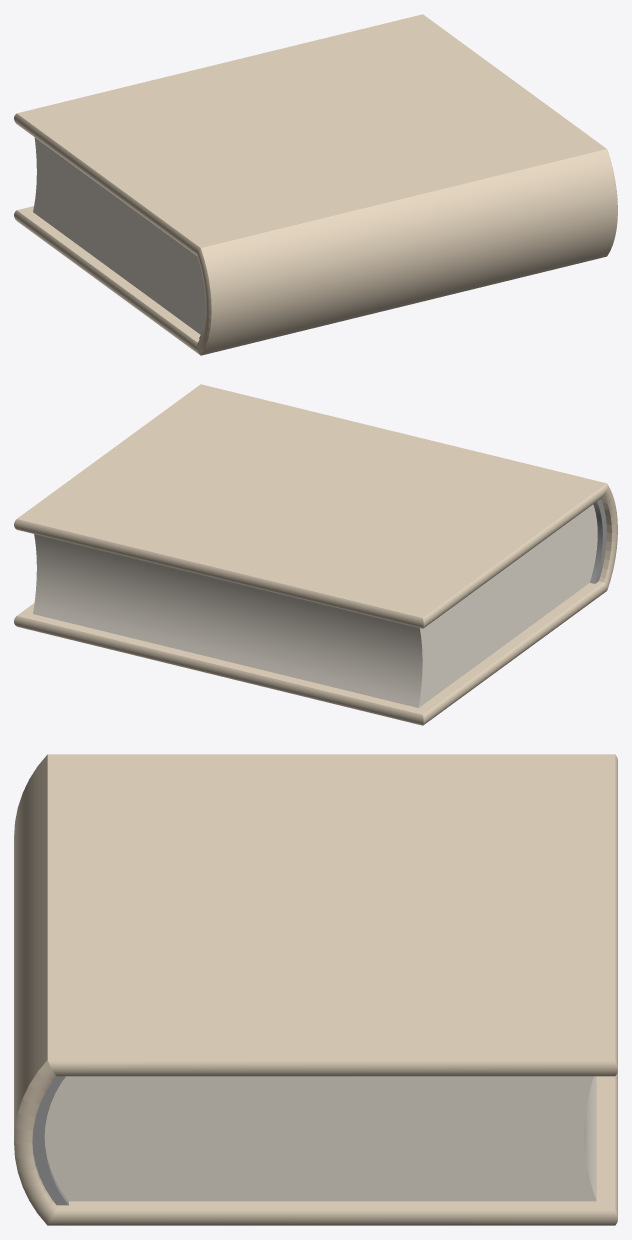
The model's file is book.fbx.
3 renders of one model, top to bottom at view 1: azimuth 30°, elevation 25°; view 2: azimuth 150°, elevation 25°; view 3: azimuth 270°, elevation 25°, orthographic. The views are drawn at different scales.
Parts seen in each view (by area): view 1: book1; view 2: book1; view 3: book1.
Part boxes in pixels (x1,y1,x2,y2): book1: (14, 14, 617, 355); book1: (14, 384, 617, 725); book1: (14, 754, 617, 1225).
Bounding box in the file's own units: 14.39 × 3.61 × 11.92.
